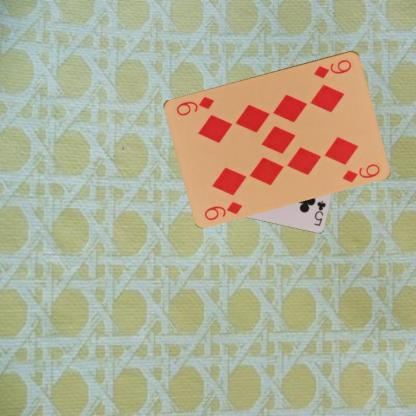5c: (311, 198, 327, 227)
9d: (202, 198, 244, 221), (311, 57, 353, 79)
